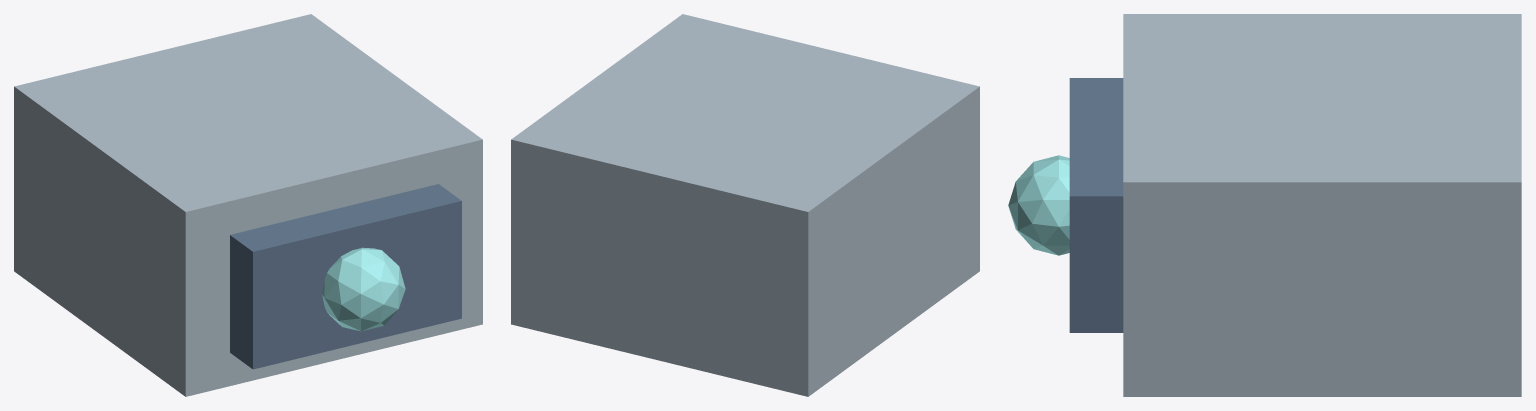
Rendered from Security_Camera_Head.glb.
The picture shows the model from 3 angles, left to right: view 1: azimuth 30°, elevation 25°; view 2: azimuth 150°, elevation 25°; view 3: azimuth 270°, elevation 25°; orthographic projection. The views are drawn at different scales.
Visible parts, largest first — view 1: cam_0, lens_1, glass_2; view 2: cam_0; view 3: cam_0, lens_1, glass_2.
Boxes of the visible parts, x1,y1,x2,y2 form: cam_0: [14, 14, 482, 396]; lens_1: [230, 184, 461, 369]; glass_2: [322, 247, 405, 331]; cam_0: [511, 14, 979, 396]; cam_0: [1123, 14, 1521, 396]; lens_1: [1069, 78, 1123, 332]; glass_2: [1008, 155, 1069, 255].
Size of the model in its own units: 0.37 by 0.22 by 0.477.
